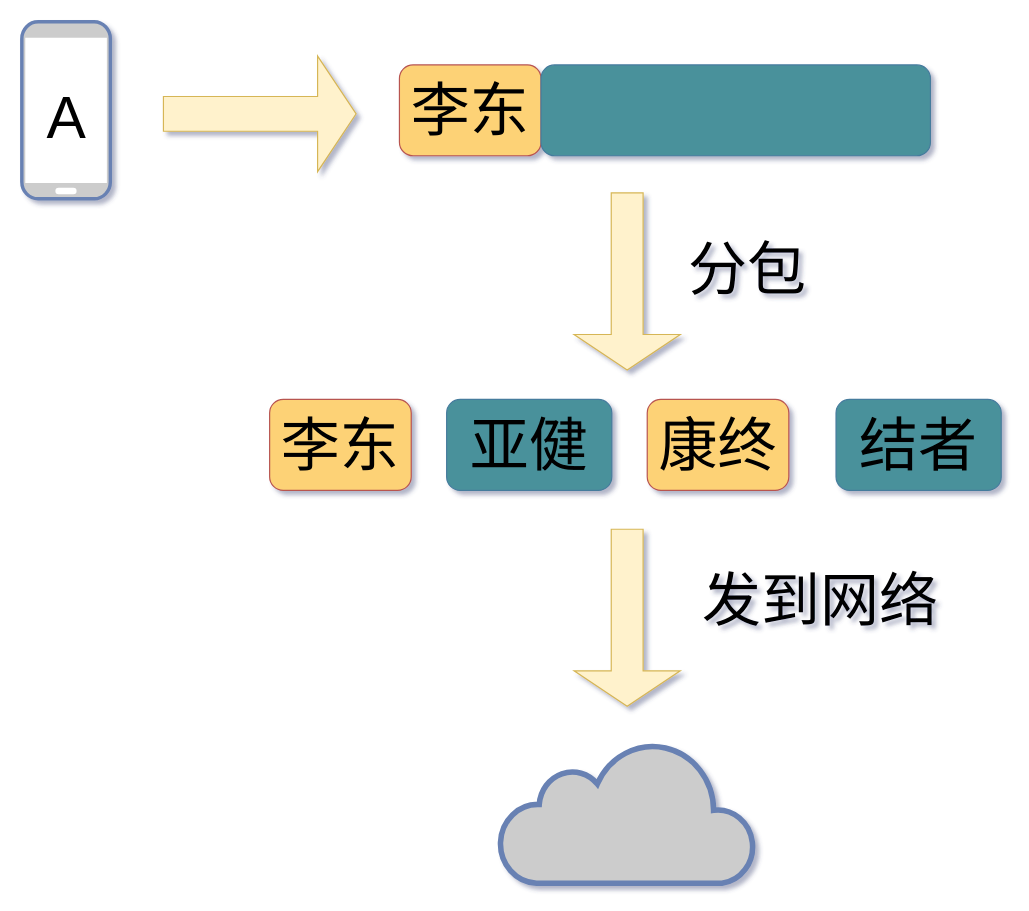
Some shapes in this 1029 by 911 pixel diagram are drawn without their labels. The centre of each missing label's shape, as x and y in pixels:
"亚健康终结者" belongs at point (735, 110).
"网络" belongs at point (626, 812).
